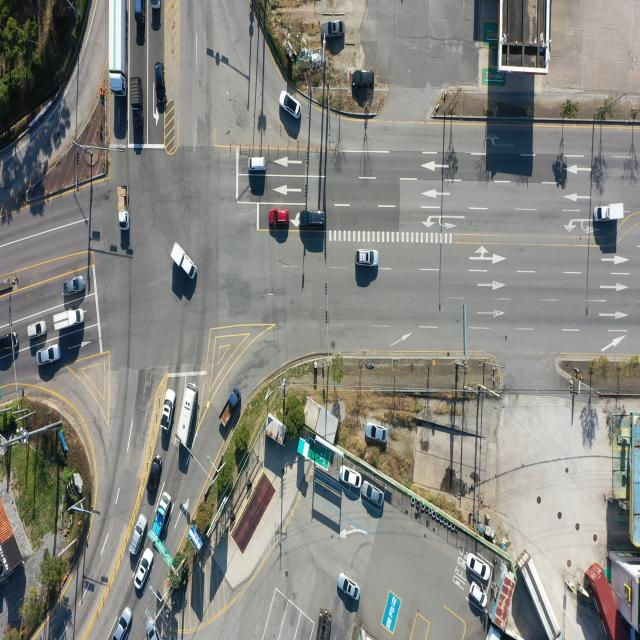car: (135, 547, 154, 588), (130, 514, 148, 557), (111, 606, 132, 640), (279, 92, 301, 121), (338, 573, 360, 601), (470, 554, 492, 582), (147, 458, 162, 499), (163, 389, 176, 434), (156, 64, 167, 114), (362, 484, 384, 508), (36, 345, 60, 366), (469, 582, 487, 610), (300, 210, 326, 228), (341, 465, 362, 487), (64, 276, 86, 296), (0, 334, 18, 358), (364, 424, 386, 442), (356, 249, 378, 267), (352, 70, 373, 87), (28, 320, 46, 338), (328, 22, 346, 38), (249, 158, 267, 173), (271, 210, 289, 224)
medium_truck: (522, 550, 564, 638), (110, 0, 127, 91), (316, 606, 332, 640)
small_bus: (178, 384, 201, 447)
small_truck: (174, 245, 200, 284), (152, 492, 171, 544), (220, 388, 242, 430), (52, 308, 84, 331), (594, 202, 625, 224), (132, 77, 144, 130), (116, 184, 128, 227), (134, 0, 144, 26), (150, 0, 159, 9)
